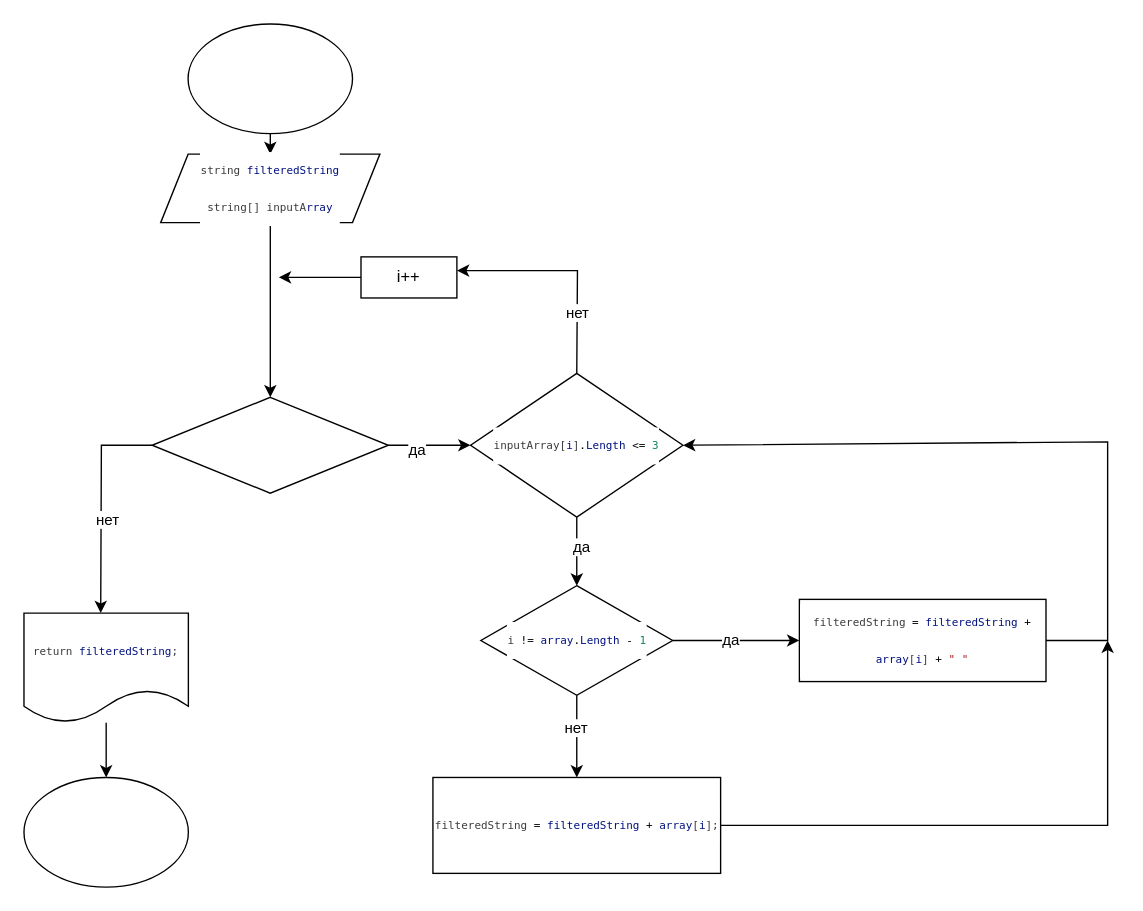
Image size: 1143x911. Some labels were removed from this diagram. Here are the shapes that lost their labels. From the top down, the centre of each, then its label:
At (x=270, y=78): "старт метода".
At (x=269, y=444): "i < inputArray . Length".
At (x=105, y=831): "Выход".
